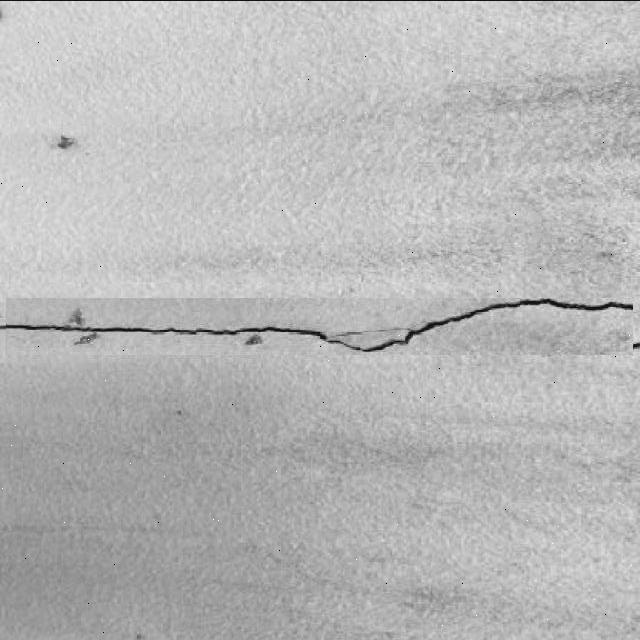crack: (0, 295, 639, 353)
